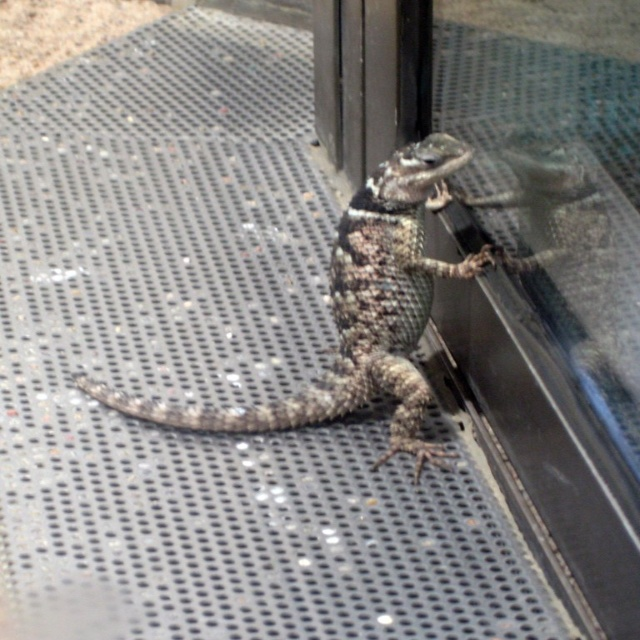Lizard: (81, 130, 531, 506)
